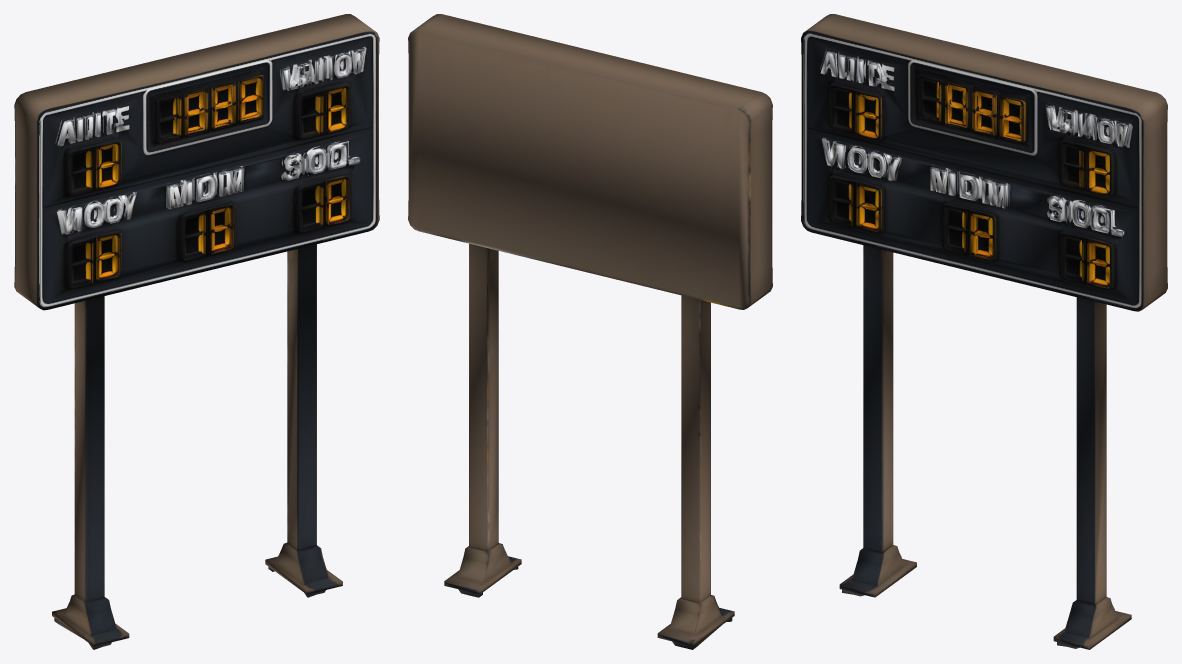
File: stadium_scoreboard_8bd66713_v2.glb
The picture shows the model from 3 angles, left to right: view 1: azimuth 30°, elevation 25°; view 2: azimuth 150°, elevation 25°; view 3: azimuth 330°, elevation 25°; orthographic projection.
Visible parts, largest first — view 1: texture_pbr_20250901; view 2: texture_pbr_20250901; view 3: texture_pbr_20250901.
Boxes of the visible parts, x1,y1,x2,y2 form: texture_pbr_20250901: [14, 14, 379, 649]; texture_pbr_20250901: [408, 14, 772, 649]; texture_pbr_20250901: [801, 14, 1167, 649].
Bounding box in the file's own units: 1.25 × 1.9 × 0.2636.
1 material, 1 textured.
